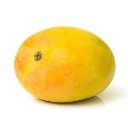mango: (14, 26, 115, 102)
